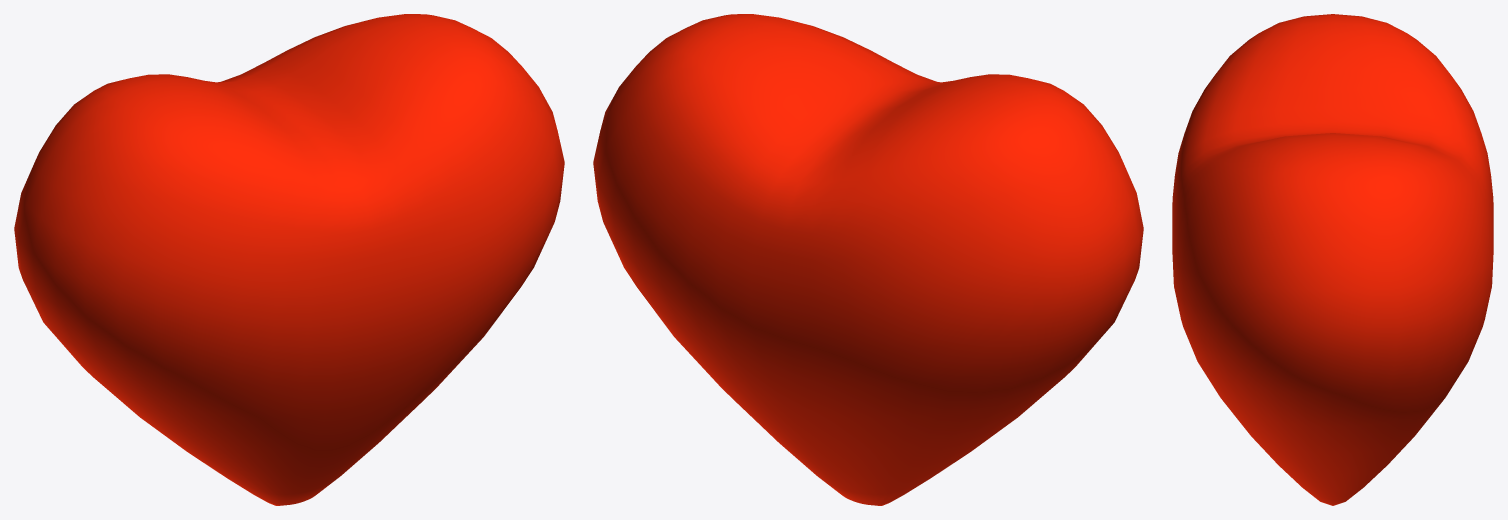
File: heart.fbx
3 views of the same model, side by side, from view 1: azimuth 30°, elevation 25°; view 2: azimuth 150°, elevation 25°; view 3: azimuth 270°, elevation 25° (orthographic). The views are drawn at different scales.
Parts seen in each view (by area): view 1: Куб; view 2: Куб; view 3: Куб.
Part boxes in pixels (x1=…): Куб: x1=14, y1=14, x2=564, y2=505; Куб: x1=593, y1=14, x2=1143, y2=505; Куб: x1=1172, y1=14, x2=1493, y2=505.
Size of the model in its own units: 367 by 301 by 212.
